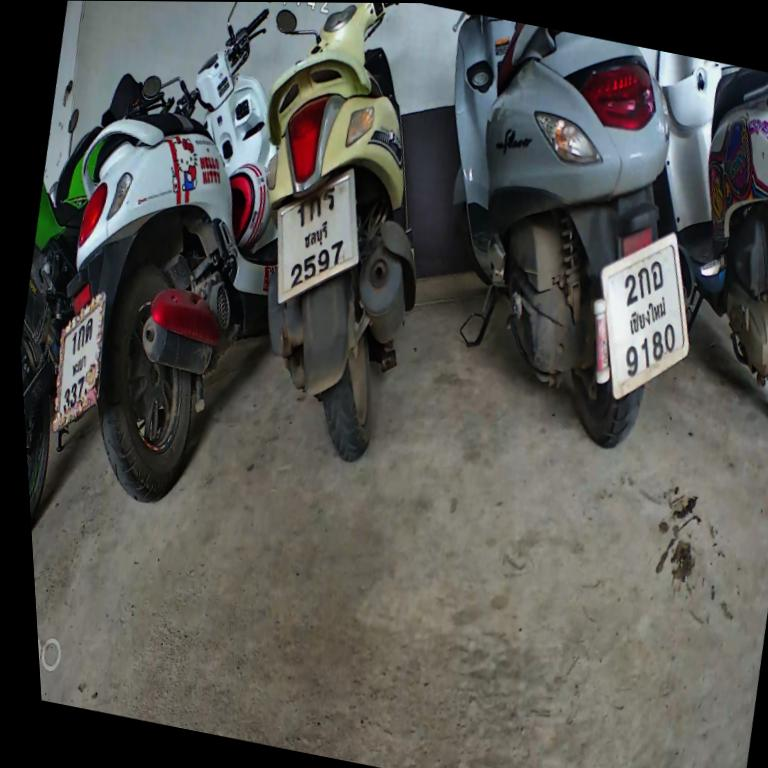license plate: (566, 205, 721, 421), (254, 145, 386, 331), (33, 278, 128, 450)
